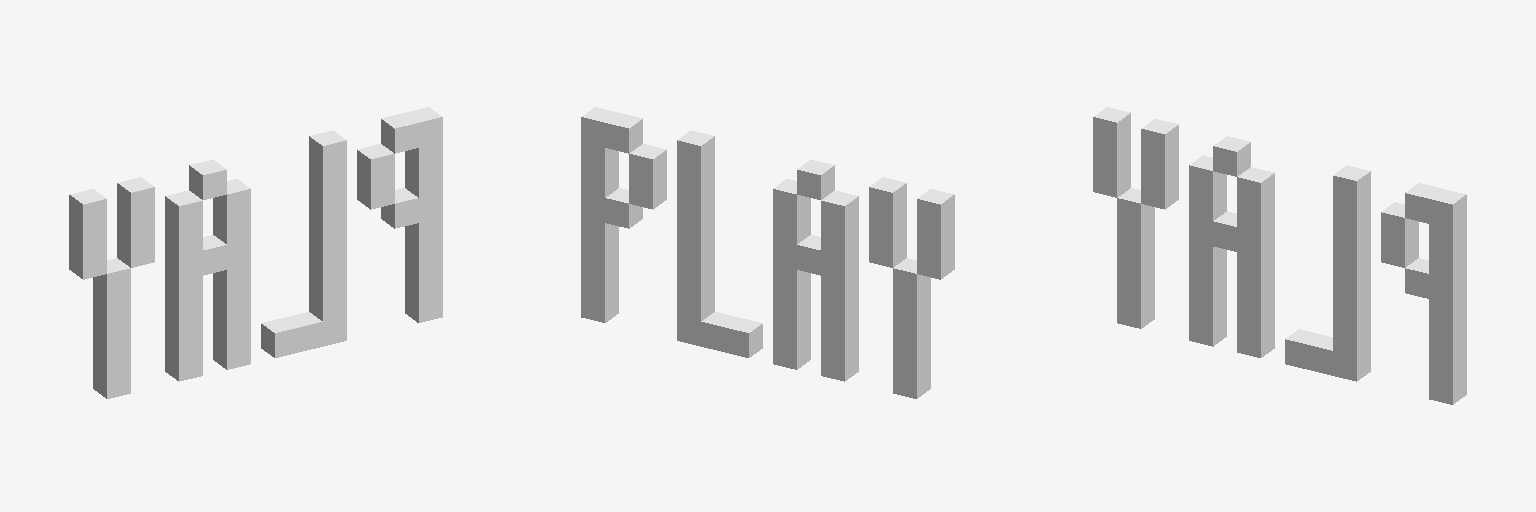
Rendered from title_play.obj.
3 renders of one model, left to right at view 1: azimuth 30°, elevation 25°; view 2: azimuth 150°, elevation 25°; view 3: azimuth 330°, elevation 25°, orthographic.
Size of the model in its own units: 15 by 8 by 1.